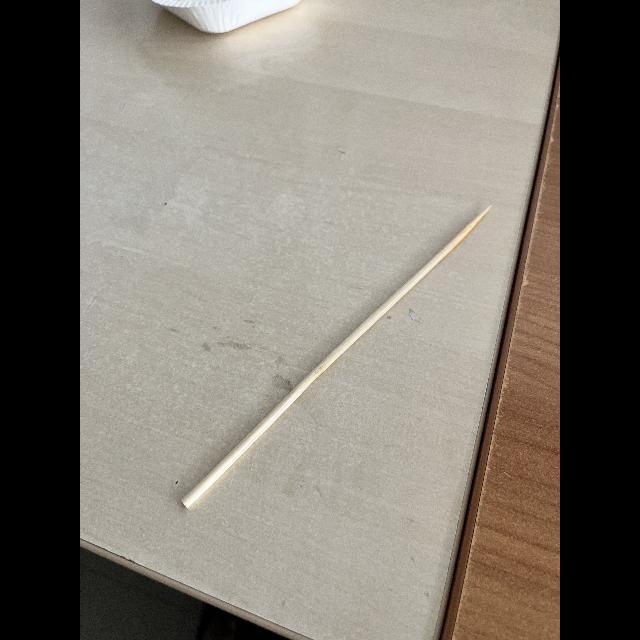stick: (174, 199, 496, 513)
